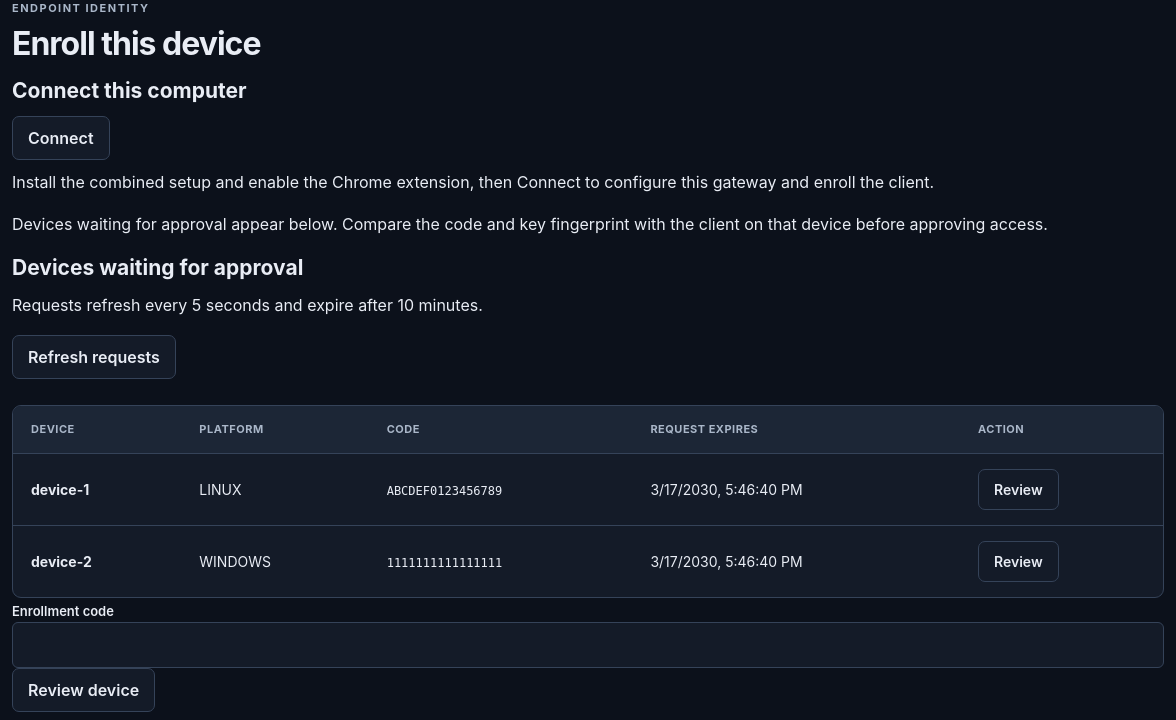
Scenario: Endpoint enrollment › shows every pending device and reviews a selected request without typing its code
Expected: the button with aria-label "Review device-1" is shown, [978, 469, 1059, 510]
Click the button with aria-label "Review device-2".
click(1018, 562)  # box [978, 541, 1059, 582]
(page scrolled)
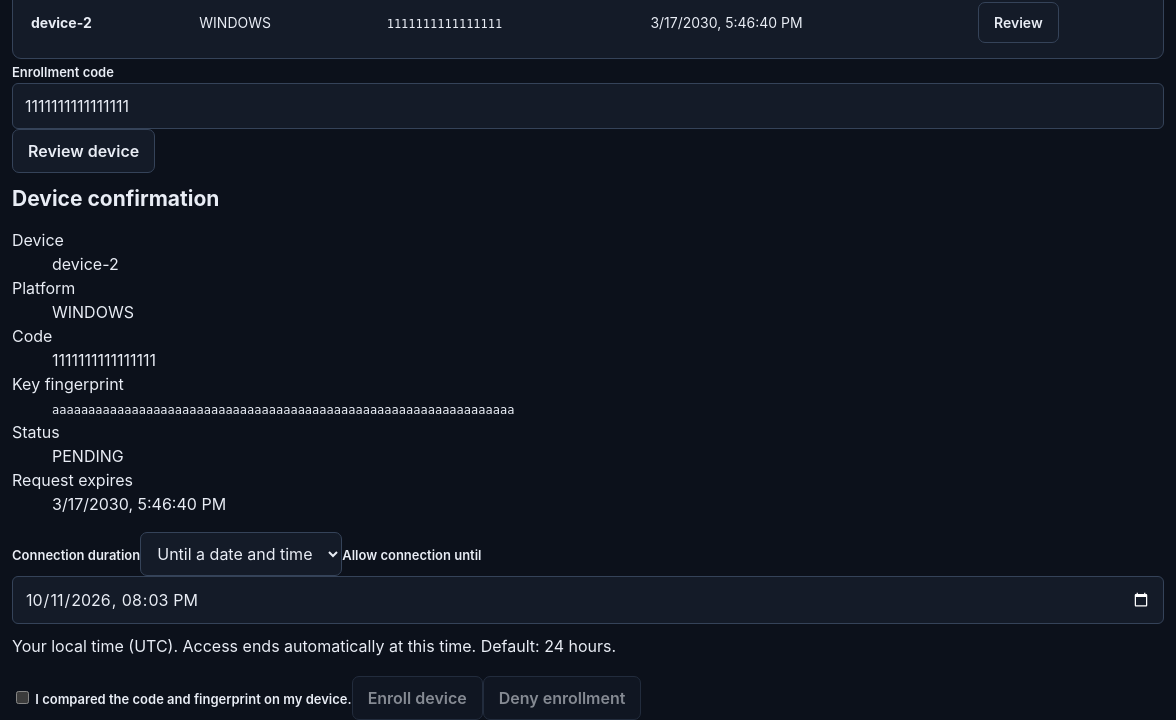
Replace the text in the field labelled "Allow connection until" with "2030-01-01T18:30" at [588, 600], box [12, 576, 1164, 624]
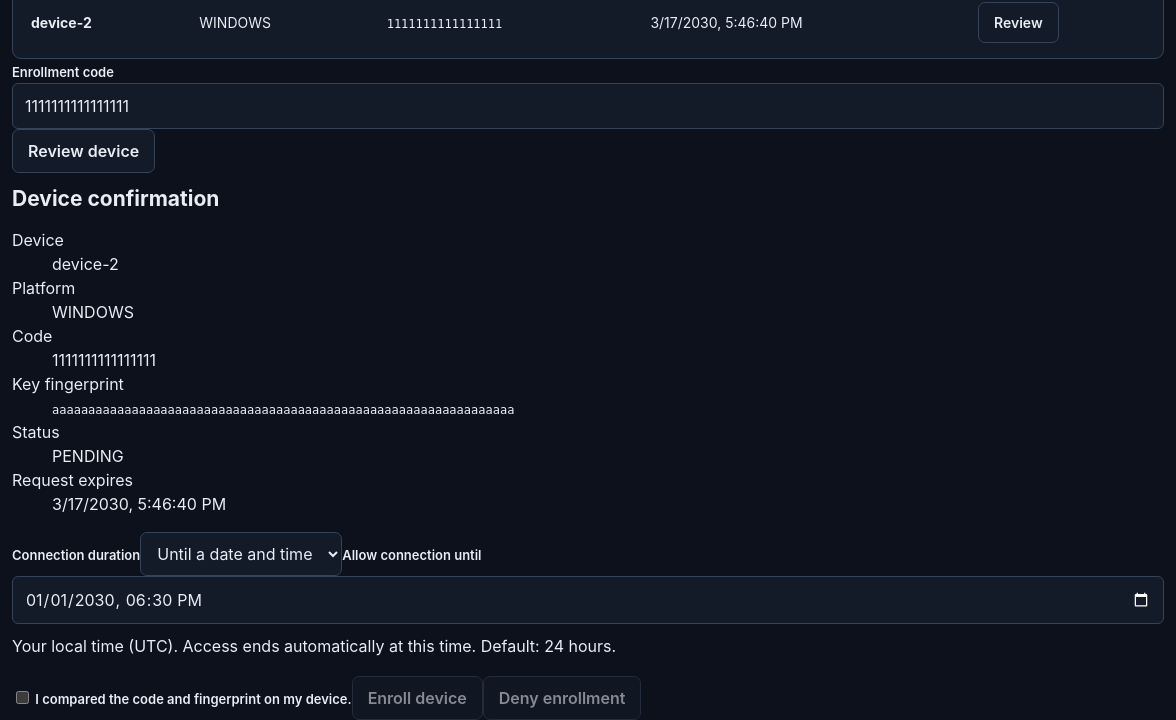
Click the checkbox.
click(22, 698)  # box [16, 691, 29, 704]
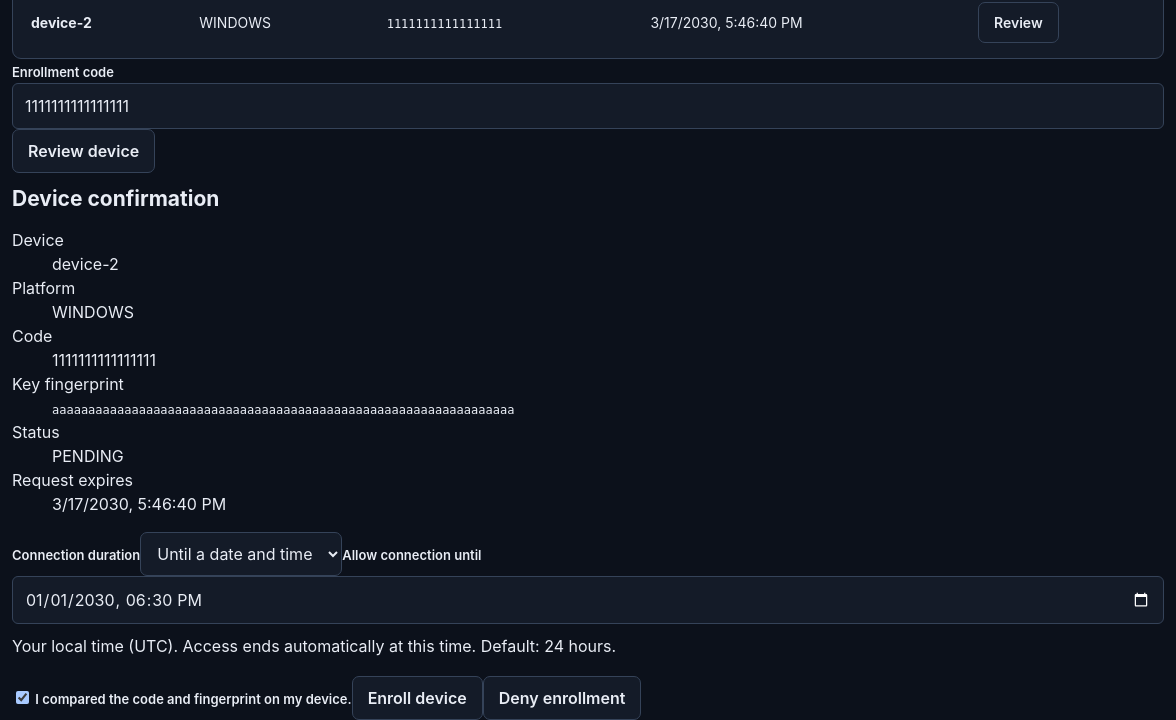
Click the button "Enroll device".
click(417, 698)  # box [352, 676, 483, 719]
(page scrolled)
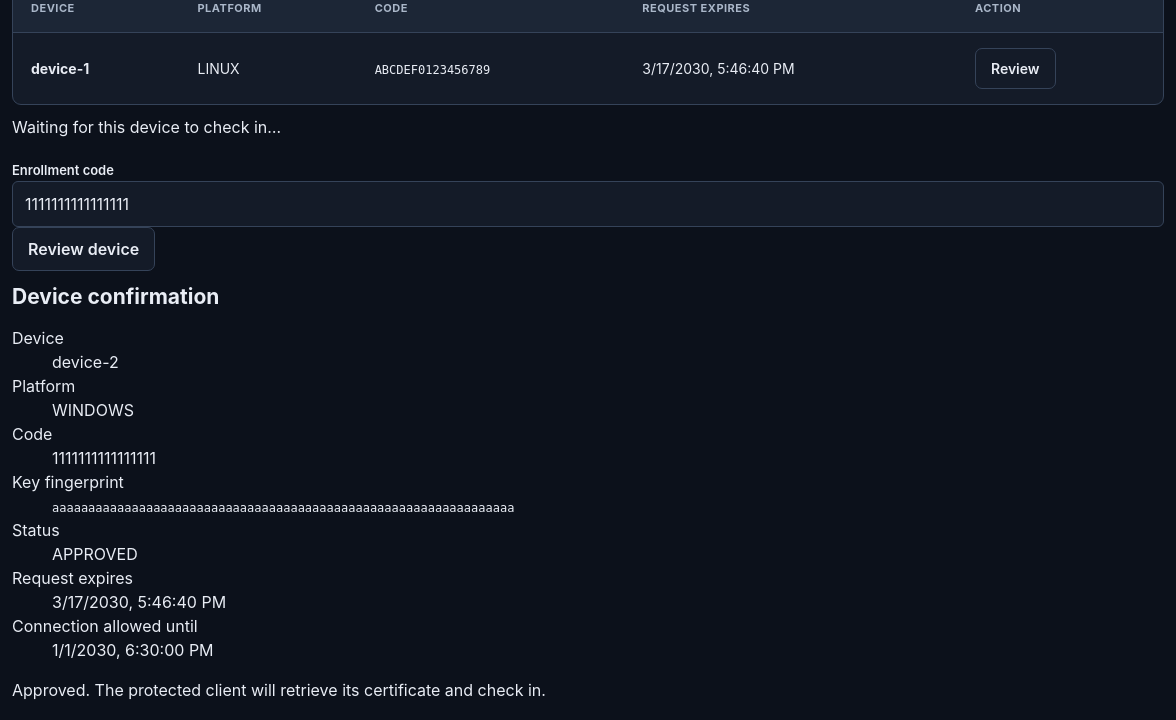
Expected: the button with aria-label "Review device-1" is shown, [975, 48, 1056, 89]
Expected: the text "Connection allowed until" is shown, [12, 616, 198, 636]
